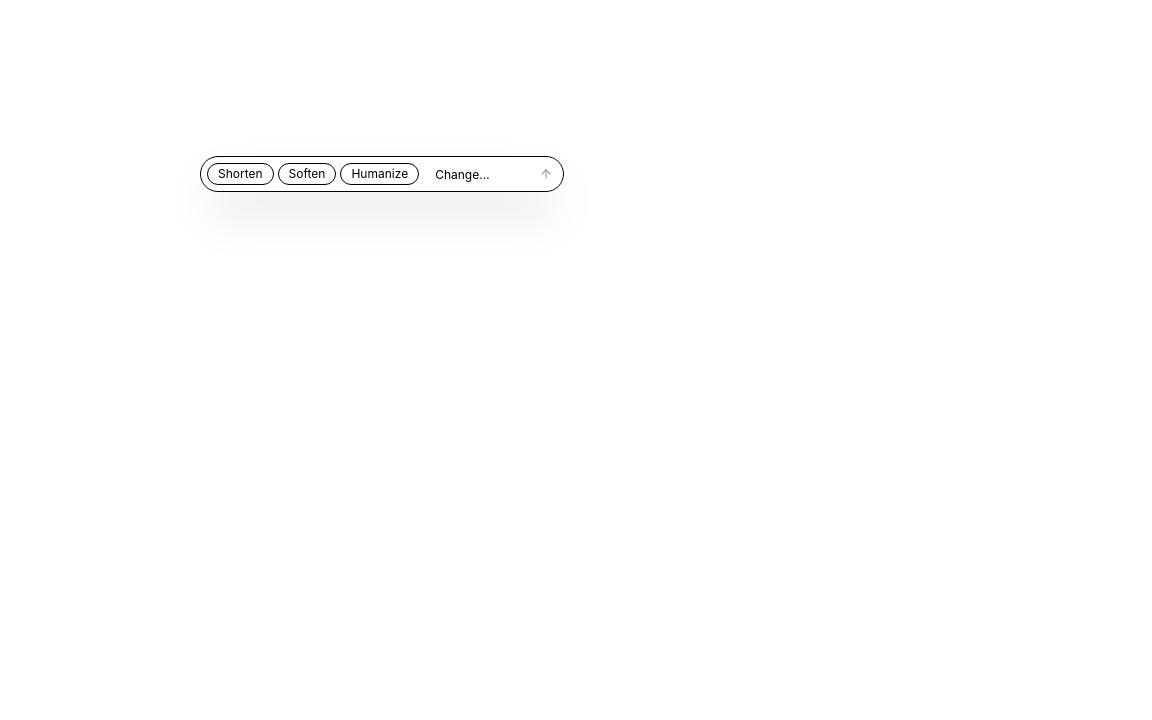
opens as one compact row and grows when the user reaches for the field
Focus the text box named "Describe the change" at [483, 175], box [435,165,531,185]
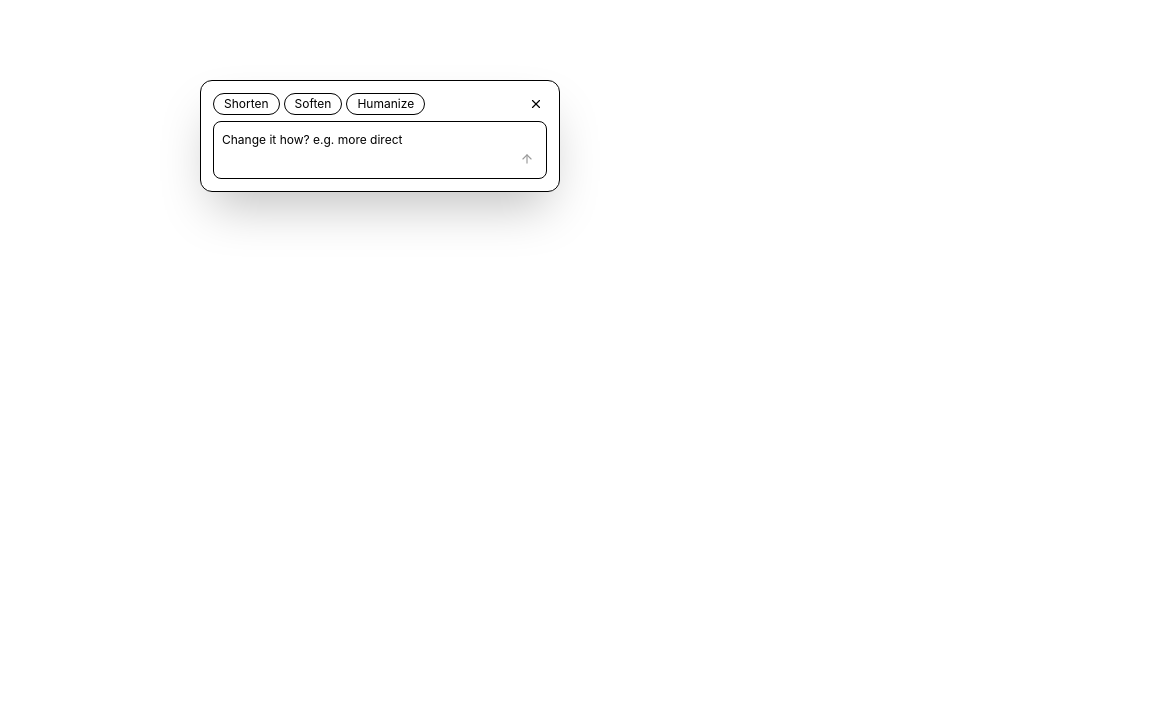
Expected: the button named "Close feedback" is shown, [525,93,547,115]
